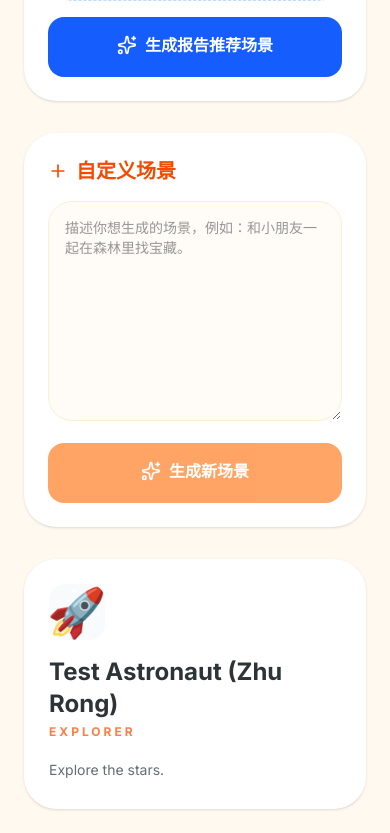
App interaction flow › opens and closes a mobile mission drawer
(page scrolled)
Click the heading "Test Astronaut (Zhu Rong)".
click(166, 688)  # box [49,657,282,718]
(page scrolled)
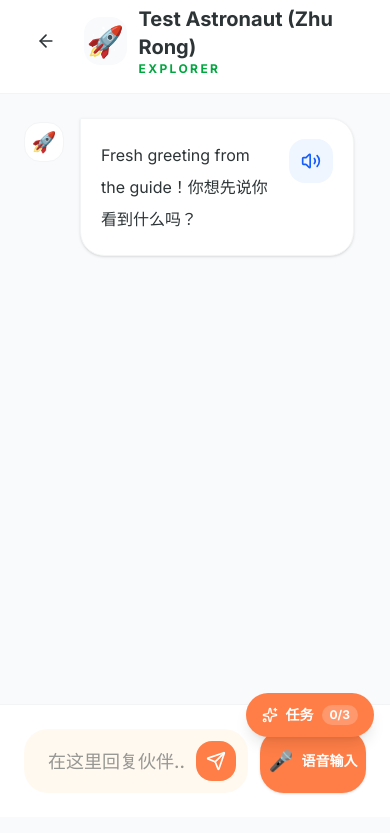
Click the button with aria-label "打开任务抽屉".
click(310, 715)  # box [246,693,374,737]
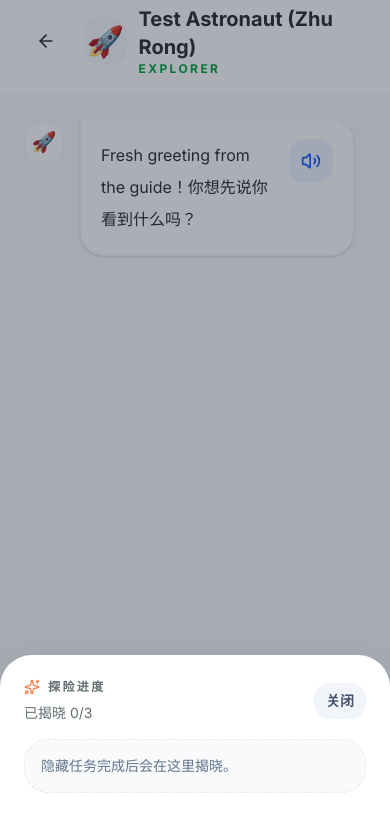
Now the element named "移动端任务抽屉" is shown, box [0,655,389,832]
Now the text "已揭晓 0/3" is shown, box [24,704,92,721]
Click the button with aria-label "关闭任务抽屉".
click(340, 701)  # box [314,683,366,719]
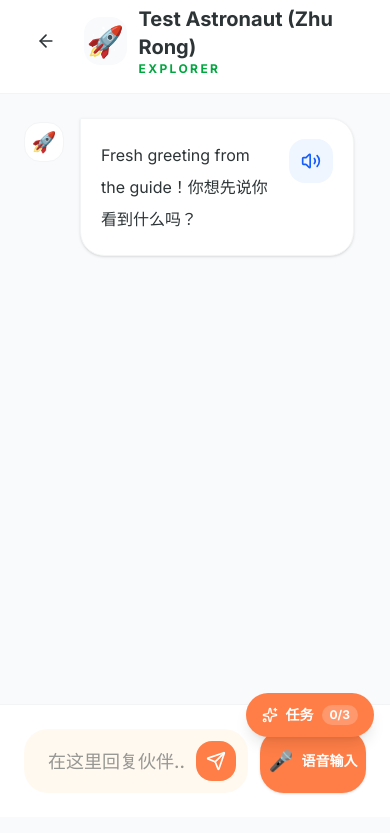
Now the field labelled "移动端任务抽屉" is gone
